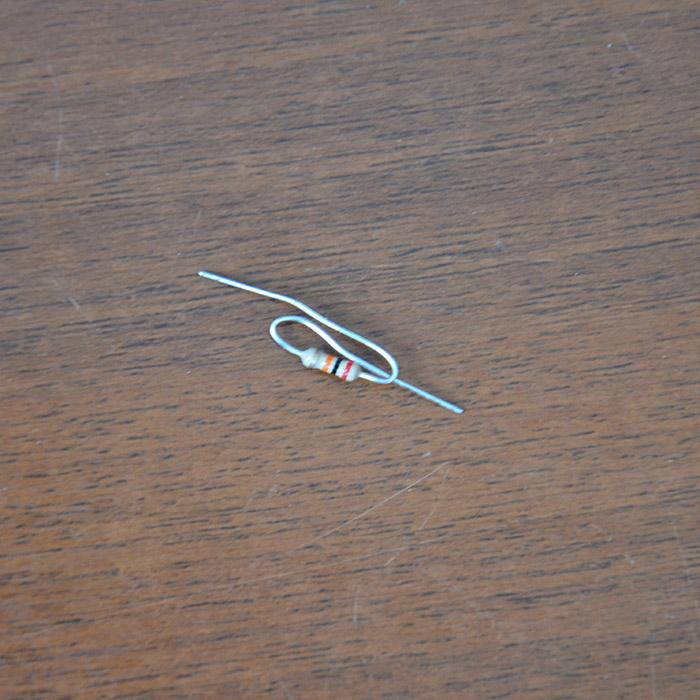resistor: (297, 345, 362, 382)
